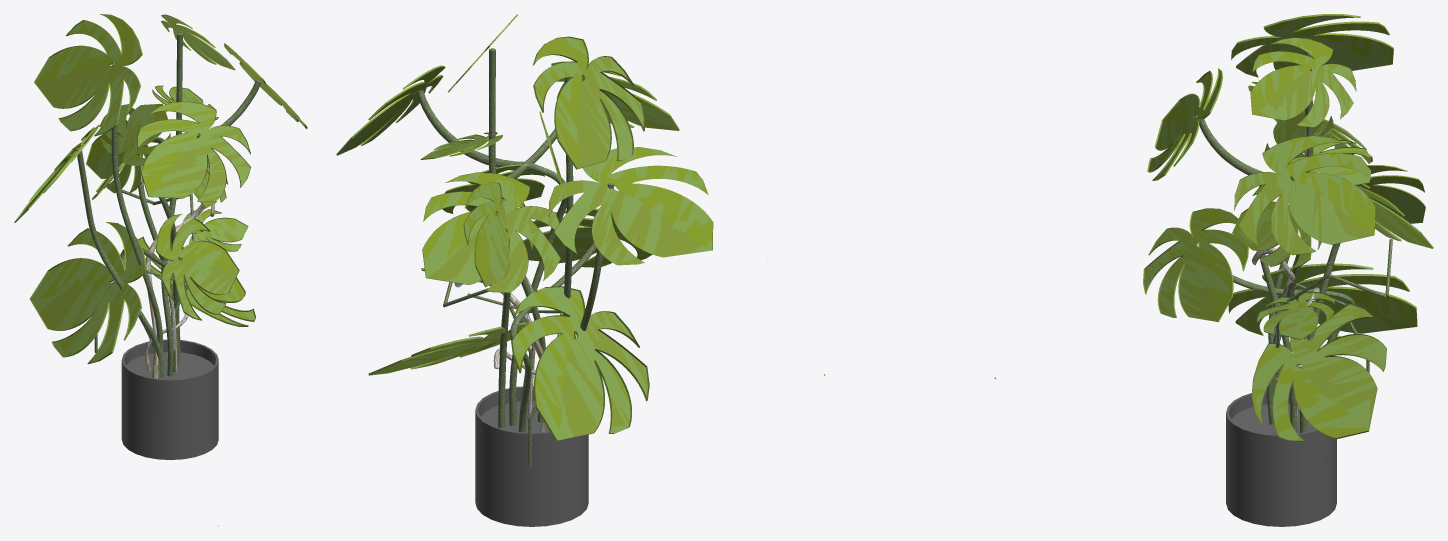
The model's file is planta-en-maceta-6.glb.
3 renders of one model, left to right at view 1: azimuth 30°, elevation 25°; view 2: azimuth 150°, elevation 25°; view 3: azimuth 270°, elevation 25°, orthographic. The views are drawn at different scales.
Visible parts, largest first — view 1: SketchUp.021, SketchUp.022, SketchUp.005, SketchUp, SketchUp.043; view 2: SketchUp.021, SketchUp.022, SketchUp.005, SketchUp, SketchUp.043; view 3: SketchUp.021, SketchUp.022, SketchUp.005, SketchUp.
Part boxes in pixels (left/top/right/bottom): SketchUp.021: left=14, top=14, right=307, bottom=364; SketchUp.022: left=30, top=14, right=265, bottom=326; SketchUp.005: left=121, top=339, right=218, bottom=459; SketchUp: left=76, top=32, right=261, bottom=378; SketchUp.043: left=144, top=203, right=220, bottom=378; SketchUp.021: left=338, top=14, right=713, bottom=441; SketchUp.022: left=336, top=15, right=713, bottom=440; SketchUp.005: left=475, top=386, right=588, bottom=526; SketchUp: left=416, top=48, right=614, bottom=466; SketchUp.043: left=454, top=276, right=545, bottom=431; SketchUp.021: left=1143, top=14, right=1433, bottom=441; SketchUp.022: left=1162, top=14, right=1432, bottom=441; SketchUp.005: left=1226, top=390, right=1336, bottom=526; SketchUp: left=1198, top=38, right=1392, bottom=432.
Size of the model in its own units: 1.13 by 1.56 by 1.6.
